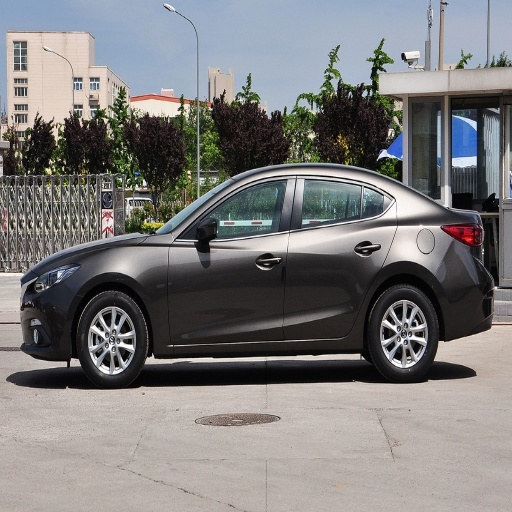_background_: (439, 243, 492, 336)
back_glass: (284, 174, 396, 352)
back_left_door: (443, 222, 483, 251)
back_right_light: (22, 289, 73, 355)
front_glass: (167, 174, 295, 356)
front_left_door: (34, 263, 74, 289)
trunk: (75, 290, 147, 386), (368, 285, 439, 381)
